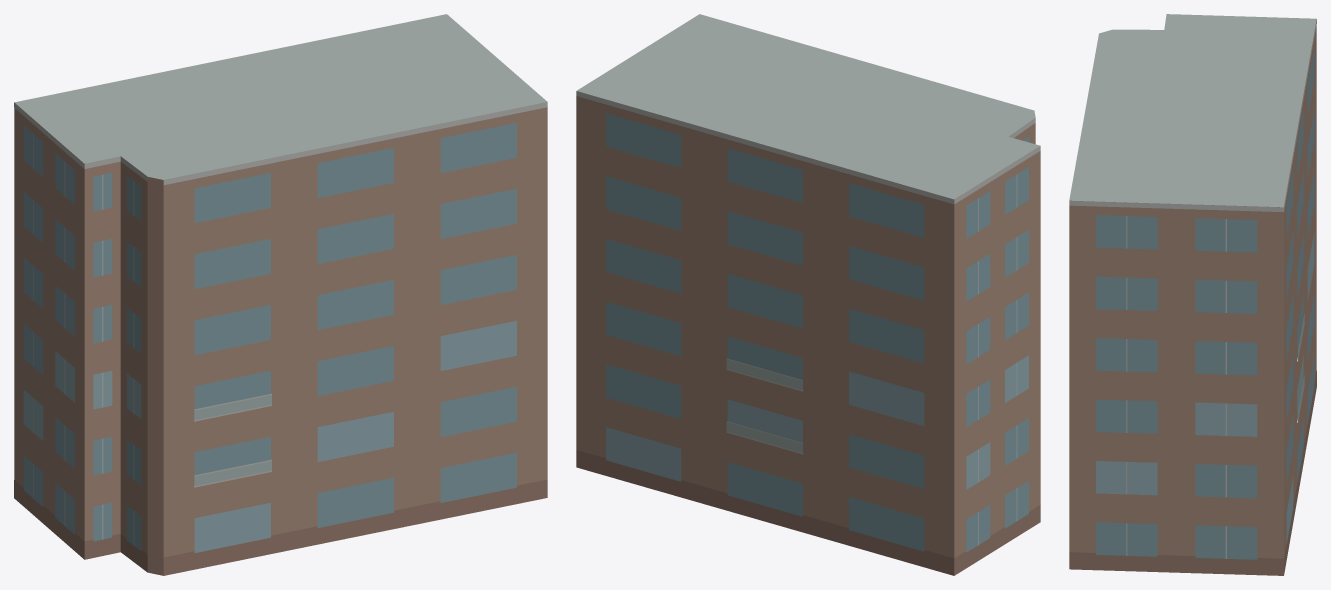
Rendered from survey-upis-32760931.glb.
3 views of the same model, side by side, from view 1: azimuth 30°, elevation 25°; view 2: azimuth 150°, elevation 25°; view 3: azimuth 270°, elevation 25° (orthographic). The views are drawn at different scales.
Parts seen in each view (by area): view 1: survey-upis-32760931.tmp; view 2: survey-upis-32760931.tmp; view 3: survey-upis-32760931.tmp.
Boxes of the visible parts, left/top/right/bottom form: survey-upis-32760931.tmp: left=14, top=14, right=547, bottom=575; survey-upis-32760931.tmp: left=576, top=14, right=1040, bottom=575; survey-upis-32760931.tmp: left=1069, top=14, right=1316, bottom=575.
Bounding box in the file's own units: 20.58 × 18.3 × 11.15.
